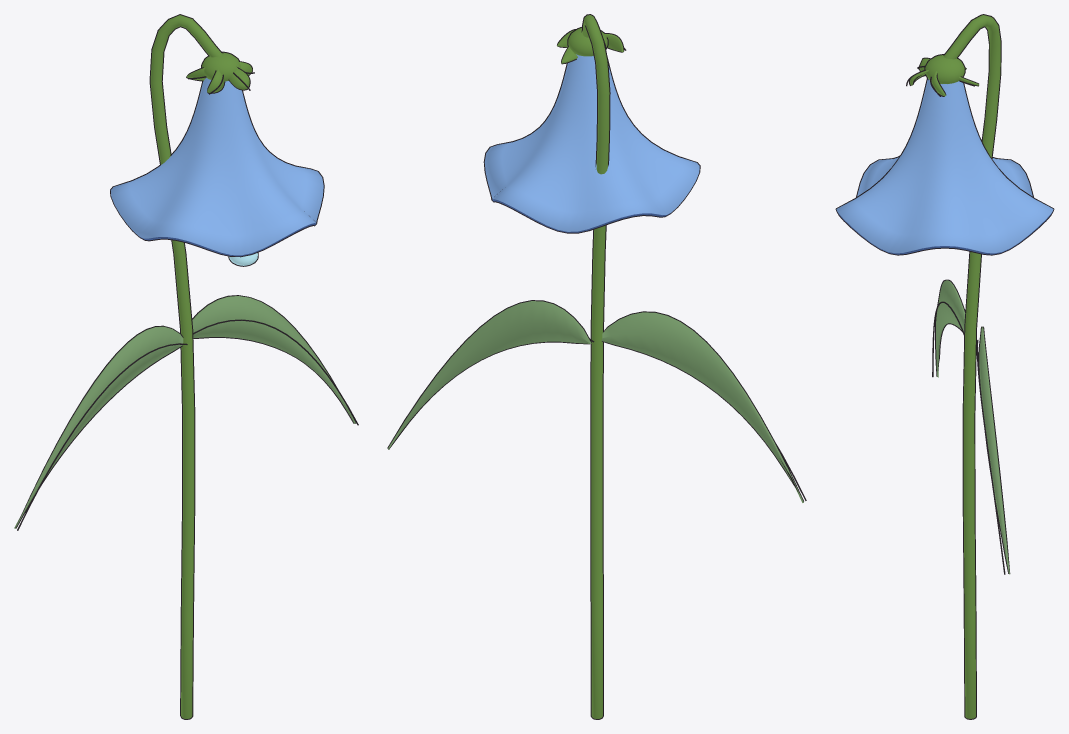
File: pleurelune_blue.glb
3 views of the same model, side by side, from view 1: azimuth 30°, elevation 25°; view 2: azimuth 150°, elevation 25°; view 3: azimuth 270°, elevation 25° (orthographic).
Visible parts, largest first — view 1: pleurelune_Geometry; view 2: pleurelune_Geometry; view 3: pleurelune_Geometry.
Boxes of the visible parts, x1,y1,x2,y2 form: pleurelune_Geometry: (14,14,358,719); pleurelune_Geometry: (387,14,806,719); pleurelune_Geometry: (835,14,1054,719).
Size of the model in its own units: 0.3072 by 0.5439 by 0.1534.
